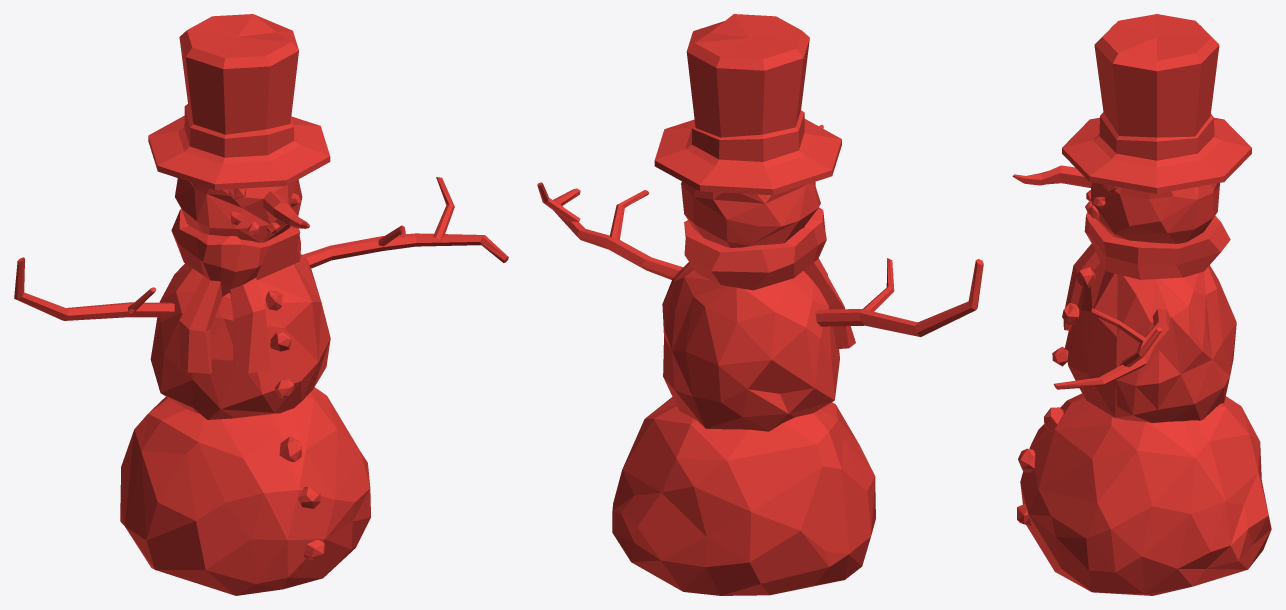
The model's file is SM_Snowman_A.fbx.
3 renders of one model, left to right at view 1: azimuth 30°, elevation 25°; view 2: azimuth 150°, elevation 25°; view 3: azimuth 270°, elevation 25°, orthographic. The views are drawn at different scales.
Parts seen in each view (by area): view 1: snowman-a; view 2: snowman-a; view 3: snowman-a.
Part boxes in pixels (x1,y1,x2,y2): snowman-a: (14, 14, 508, 595); snowman-a: (537, 14, 983, 595); snowman-a: (1012, 14, 1271, 595).
Size of the model in its own units: 1.29 by 1.42 by 0.6455.
